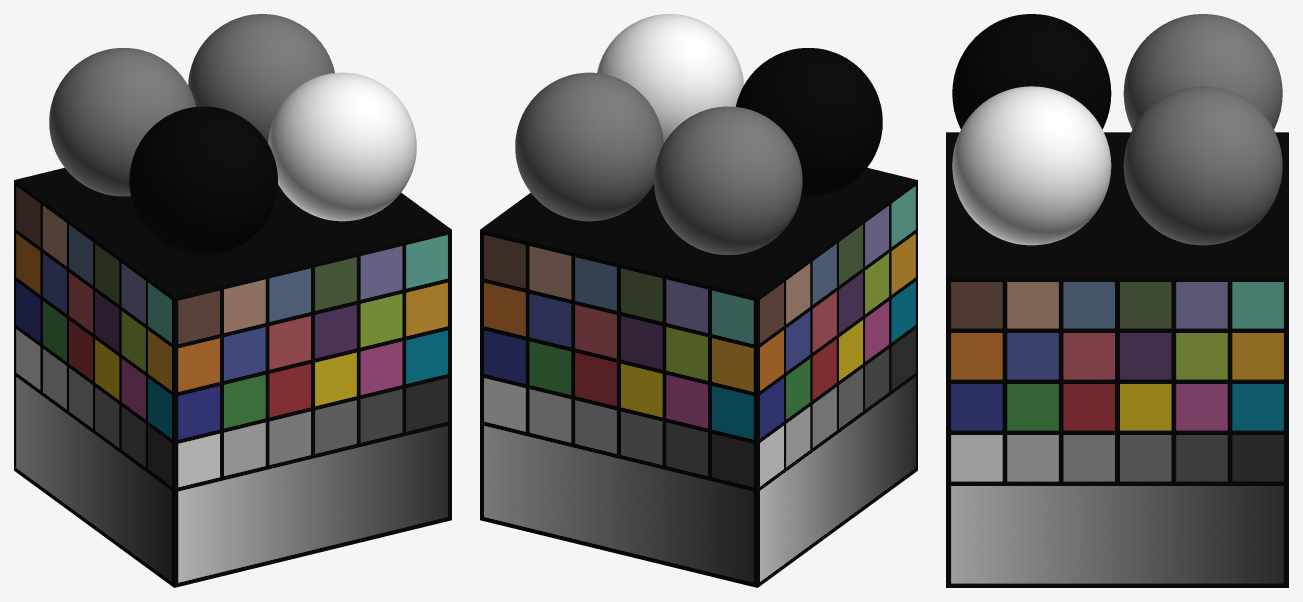
Rendered from ColorCalibrator.gltf.
The picture shows the model from 3 angles, left to right: view 1: azimuth 30°, elevation 25°; view 2: azimuth 150°, elevation 25°; view 3: azimuth 270°, elevation 25°; orthographic projection. The views are drawn at different scales.
Visible parts, largest first — view 1: ColorCalibrator; view 2: ColorCalibrator; view 3: ColorCalibrator.
Part boxes in pixels (bbox=[...]): ColorCalibrator: bbox=[14, 14, 451, 587]; ColorCalibrator: bbox=[480, 14, 917, 587]; ColorCalibrator: bbox=[946, 14, 1288, 587].
Size of the model in its own units: 2 by 2.95 by 2.
Materials: 5 (1 with a texture image).
